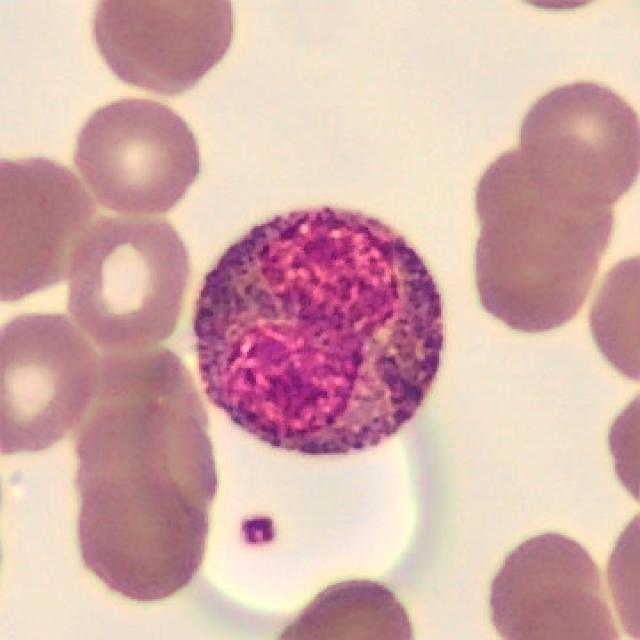Metamielocito: (192, 208, 444, 457)
